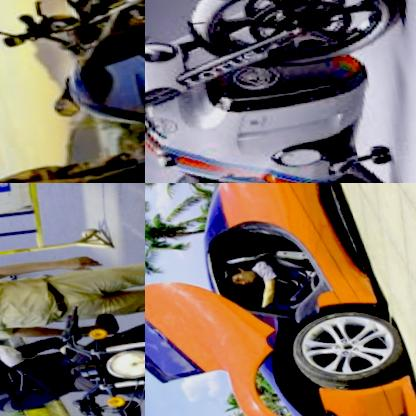bike: (145, 0, 416, 183), (50, 285, 145, 416)
car: (145, 183, 416, 416)
